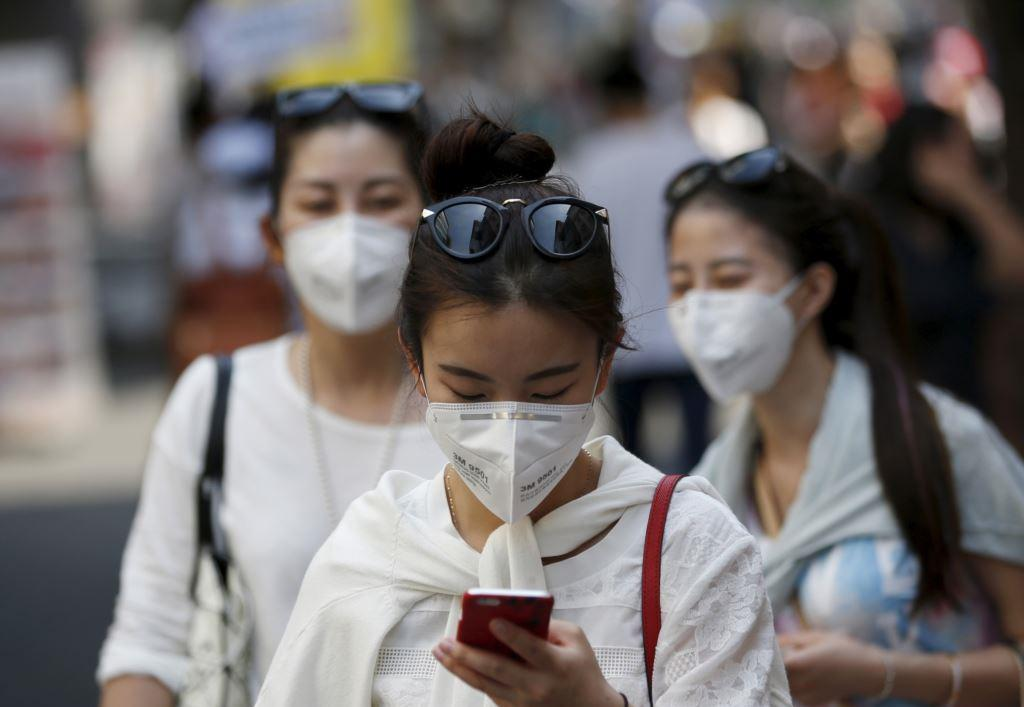OK: (434, 356, 585, 507), (671, 241, 803, 401), (290, 174, 422, 333)
